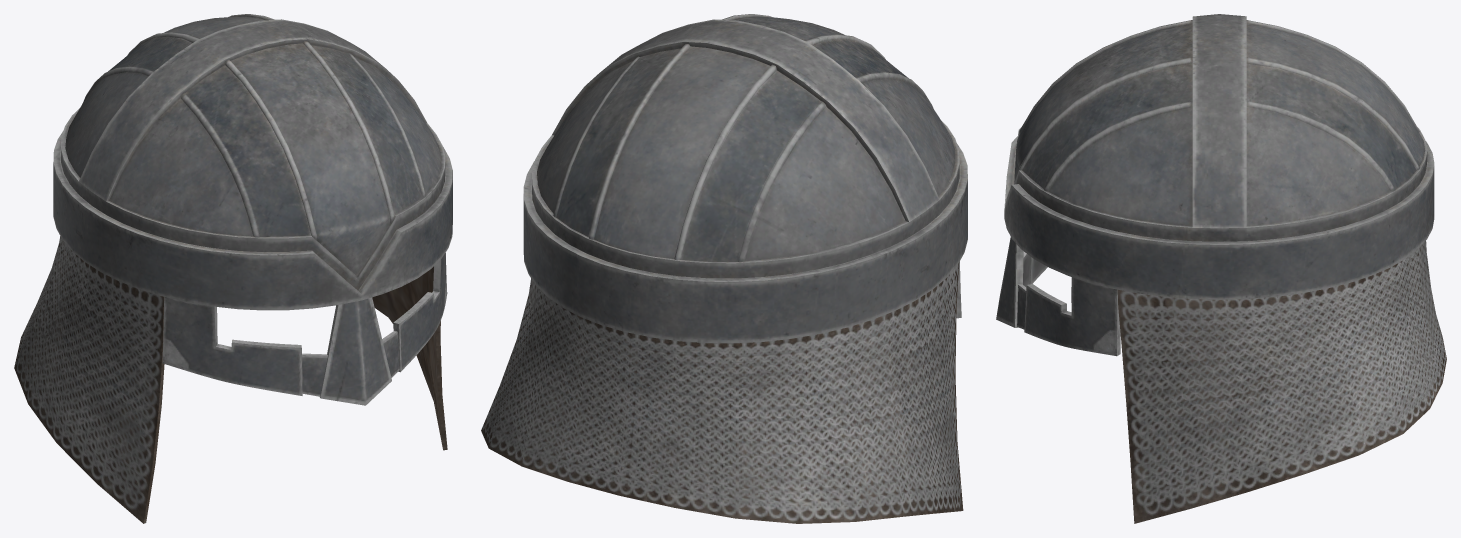
File: sk_dwarf_erebor_helmet_plate_light_a.fbx
The picture shows the model from 3 angles, left to right: view 1: azimuth 30°, elevation 25°; view 2: azimuth 150°, elevation 25°; view 3: azimuth 270°, elevation 25°; orthographic projection. The views are drawn at different scales.
Visible parts, largest first — view 1: sk_dwarf_erebor_helmet_plate_light_a.1, sk_dwarf_erebor_helmet_plate_light_a.0; view 2: sk_dwarf_erebor_helmet_plate_light_a.1, sk_dwarf_erebor_helmet_plate_light_a.0; view 3: sk_dwarf_erebor_helmet_plate_light_a.1, sk_dwarf_erebor_helmet_plate_light_a.0.
Part boxes in pixels (x1=…): sk_dwarf_erebor_helmet_plate_light_a.1: x1=53, y1=14, x2=452, y2=405; sk_dwarf_erebor_helmet_plate_light_a.0: x1=14, y1=236, x2=447, y2=523; sk_dwarf_erebor_helmet_plate_light_a.1: x1=523, y1=14, x2=967, y2=343; sk_dwarf_erebor_helmet_plate_light_a.0: x1=481, y1=262, x2=963, y2=523; sk_dwarf_erebor_helmet_plate_light_a.1: x1=996, y1=14, x2=1434, y2=356; sk_dwarf_erebor_helmet_plate_light_a.0: x1=1117, y1=241, x2=1446, y2=523.
Size of the model in its own units: 0.2777 by 0.3 by 0.3085.
